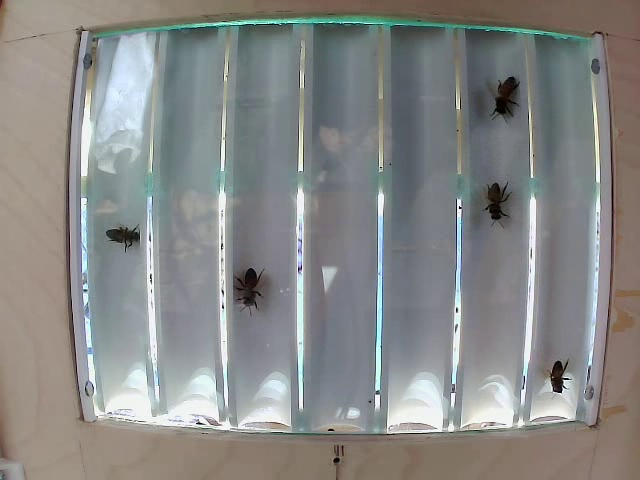bee: (223, 268, 281, 326), (482, 177, 515, 242), (533, 345, 572, 399), (101, 219, 140, 259), (496, 65, 514, 106)
